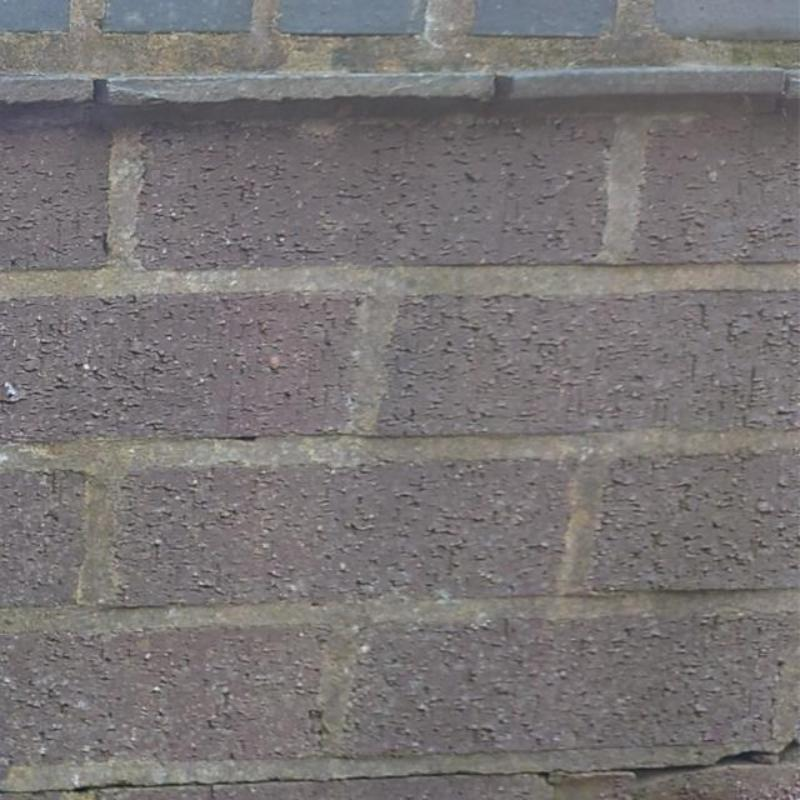pothole: (0, 750, 780, 794)
